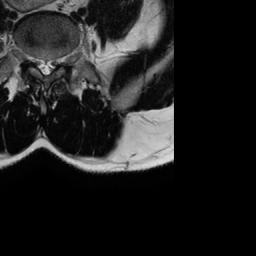CCS_stenosis: (41, 53, 49, 82)
LFS_normal: (57, 47, 65, 72)
LLS_normal: (49, 52, 57, 79)
RFS_stenosis: (26, 46, 34, 72)
RLS_normal: (34, 50, 41, 76)
